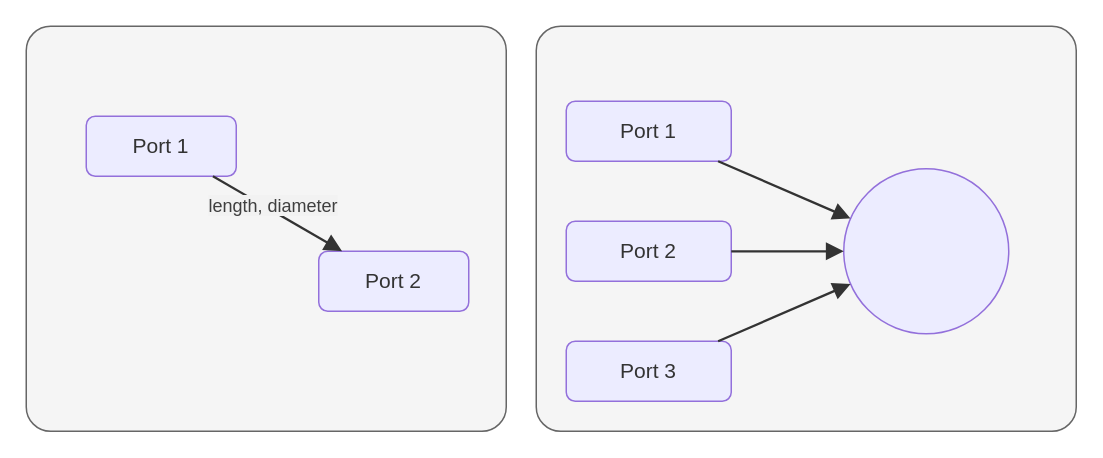
The diagram is 1103 pixels wide and 458 high, and some of its shapes have lost their labels. The shapes that lost their labels are listed below. From the top down, each one's box as (x1, y1, x2, y2) in pixels, then its label:
(25, 25, 506, 431): TRANSPORT — resistance computed from geometry
(535, 25, 1076, 431): JUNCTION — lossless hub / inventory link
(842, 167, 1009, 334): hidden hub Port 0
